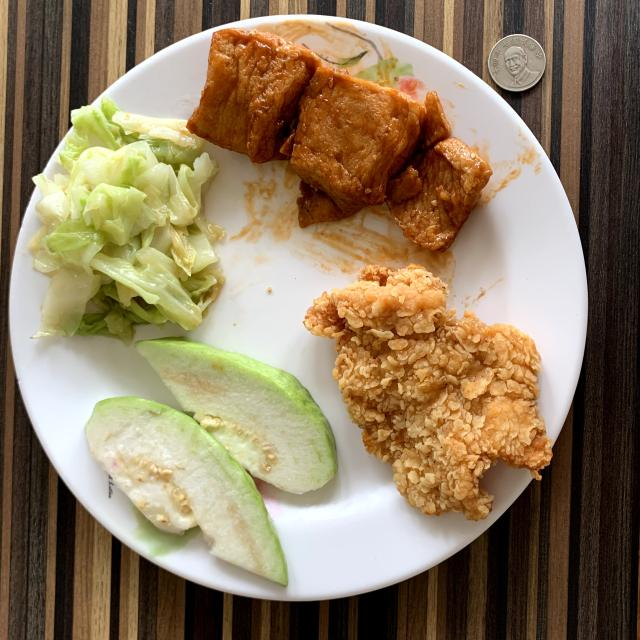cabbage: (30, 98, 225, 342)
coin: (489, 35, 546, 91)
creamy tofu: (188, 29, 491, 251)
fried chicken cutlet: (305, 265, 551, 520)
guava -sliced-: (85, 338, 338, 585)
